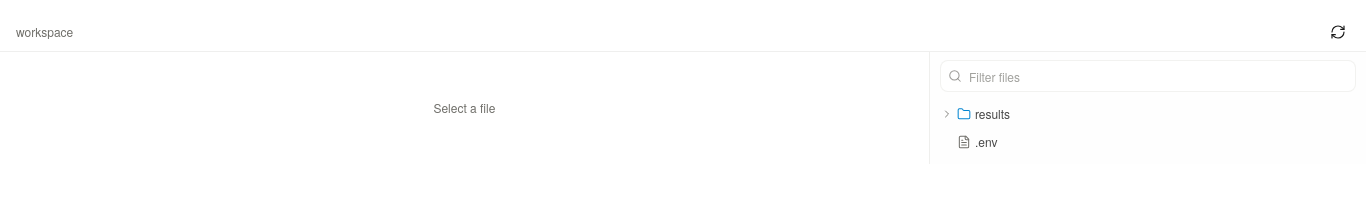
Scenario: WorkspacePanel › keeps dotfiles visible and loads folder children on demand
Expected: the text ".env" is shown, [975,133,997,150]
Click the button "results" at x=993, y=114, box [936,100,1360,128]
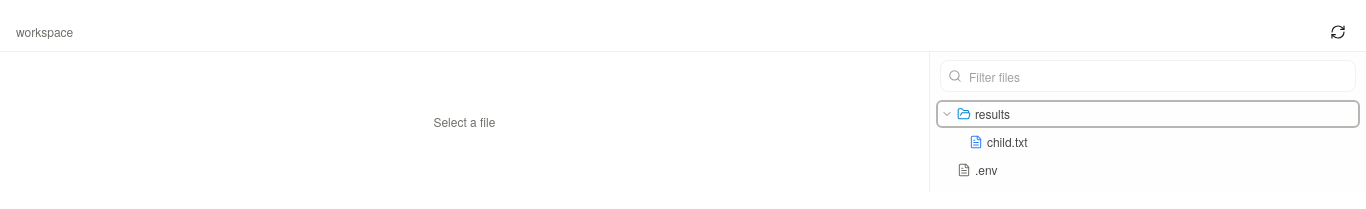
Result: the text "child.txt" is shown at [987,133,1028,150]
